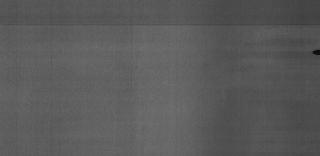punching hole: (310, 47, 320, 55)
welding line: (1, 20, 320, 32)
